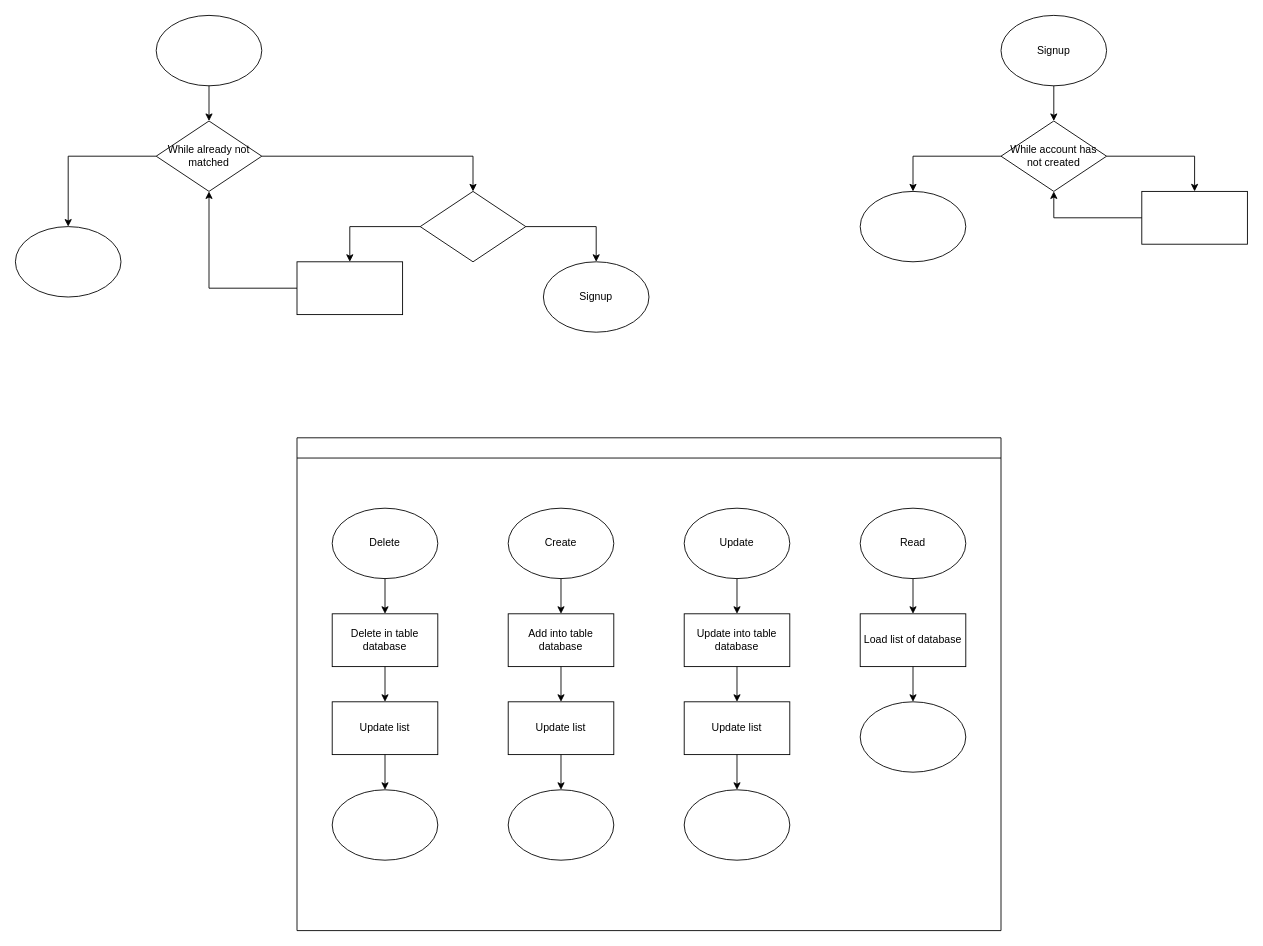
Some shapes in this 1263 by 946 pixel diagram are drawn without their labels. Here are the shapes that lost their labels. From the top down, the box of each, then its label:
(155, 15, 262, 86): Login
(419, 191, 526, 262): Signup?
(859, 191, 966, 262): Login page
(1141, 191, 1247, 244): Input username, password, password_again
(15, 226, 121, 297): To-do list page
(296, 261, 403, 315): Input username and password
(296, 437, 1001, 931): To do list
